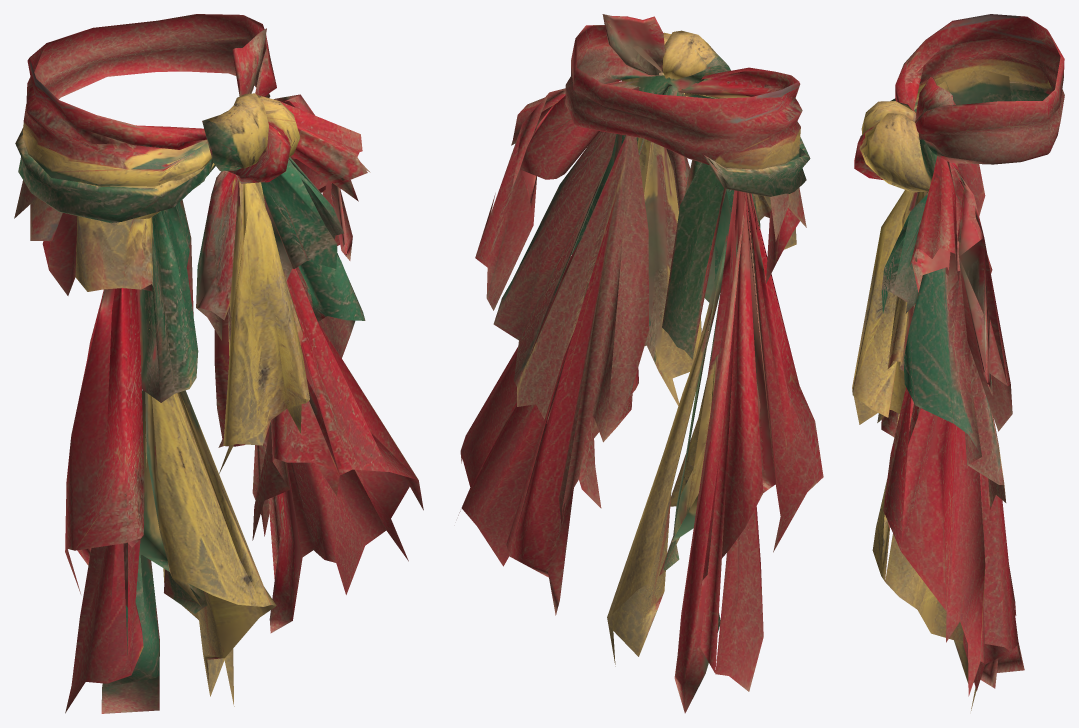
Rendered from Meshy_AI_Tattered_Festive_Bow_20261028_texture.fbx.
3 views of the same model, side by side, from view 1: azimuth 30°, elevation 25°; view 2: azimuth 150°, elevation 25°; view 3: azimuth 270°, elevation 25° (orthographic). The views are drawn at different scales.
Parts seen in each view (by area): view 1: Mesh_0; view 2: Mesh_0; view 3: Mesh_0.
Part boxes in pixels (bbox=[...]): Mesh_0: bbox=[14, 14, 423, 713]; Mesh_0: bbox=[458, 14, 823, 713]; Mesh_0: bbox=[852, 14, 1064, 710].
Size of the model in its own units: 55.71 by 95.8 by 29.25.
Materials: 1 (1 with a texture image).
